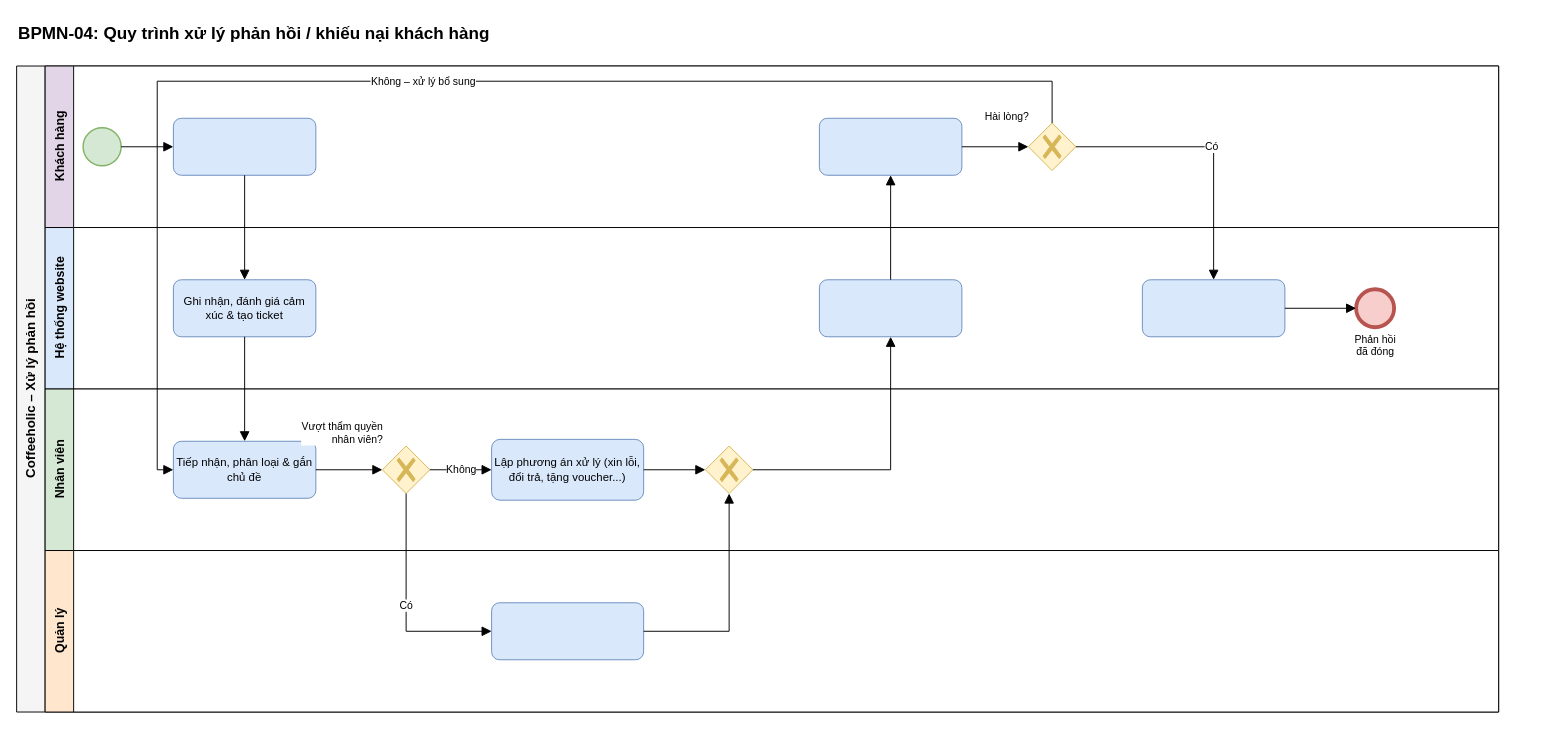
Image size: 1553x729. Some labels were removed from this diagram. The shapes that lost their labels are listed below. From the top down, each one's centre as x and y in pixels, then its label:
At point (101, 146): "Có phản hồi / khiếu nại".
At point (244, 146): "Gửi phản hồi qua biểu mẫu trên website".
At point (890, 146): "Xem phương án & đánh giá kết quả".
At point (890, 308): "Gửi kết quả giải quyết cho khách hàng".
At point (1213, 308): "Đóng ticket".
At point (567, 631): "Phê duyệt phương án giải quyết / đền bù".
